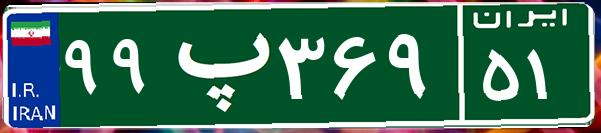1: (525, 38, 570, 115)
3: (273, 28, 330, 110)
5: (475, 38, 525, 113)
6: (330, 28, 385, 110)
9: (385, 28, 445, 110), (57, 26, 110, 107), (110, 28, 158, 105)
پ: (158, 15, 273, 115)
